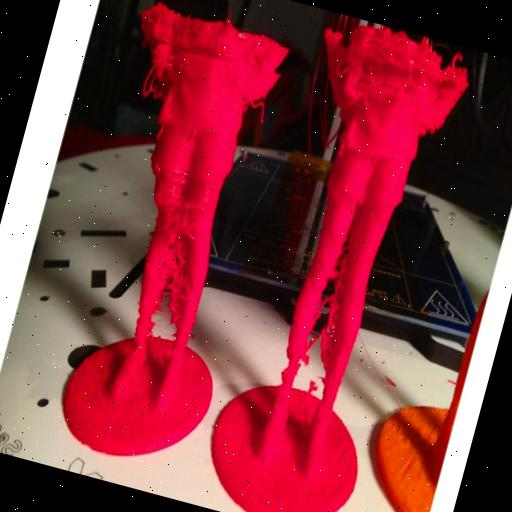spaghetti: (304, 12, 479, 154), (124, 0, 294, 115), (134, 215, 206, 342)
